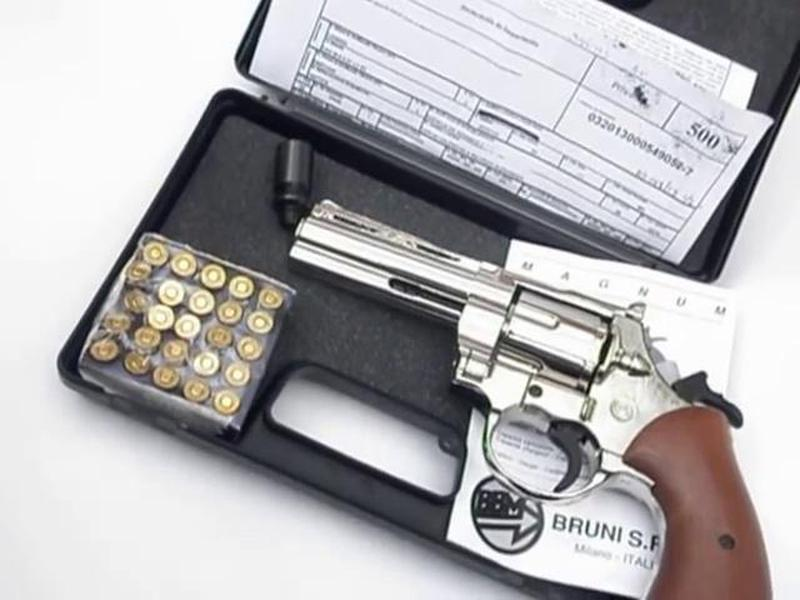Revolver: (272, 154, 755, 600)
